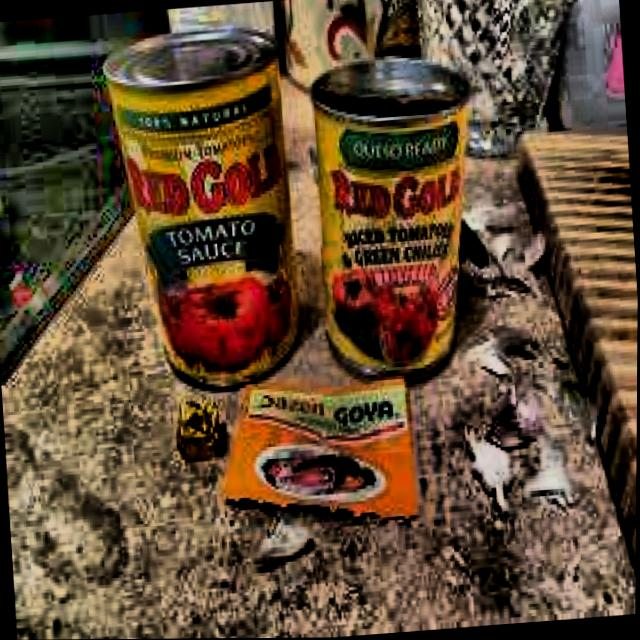Cans: (94, 20, 312, 415), (284, 8, 493, 408)
